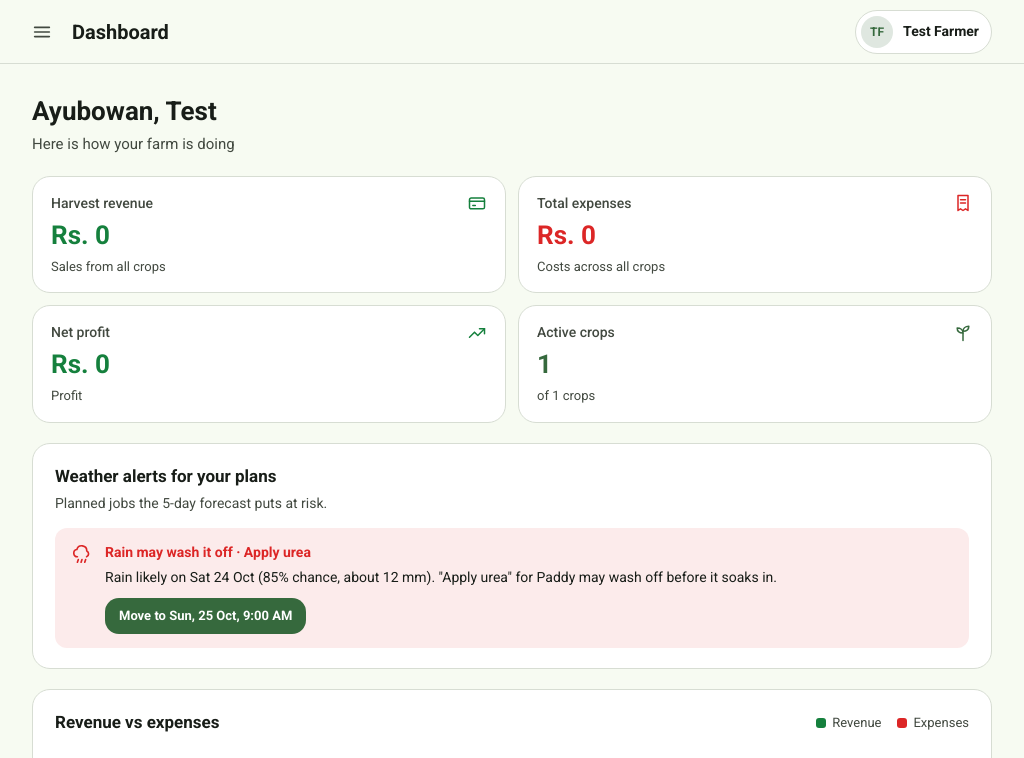
Test: weather alerts on the dashboard › moving the task reschedules the reminder and clears the alert
The width and height of the screenshot is (1024, 758).
Click the button "Move to Sun, 25 Oct, 9:00 AM".
click(206, 616)  # box [105, 598, 306, 634]
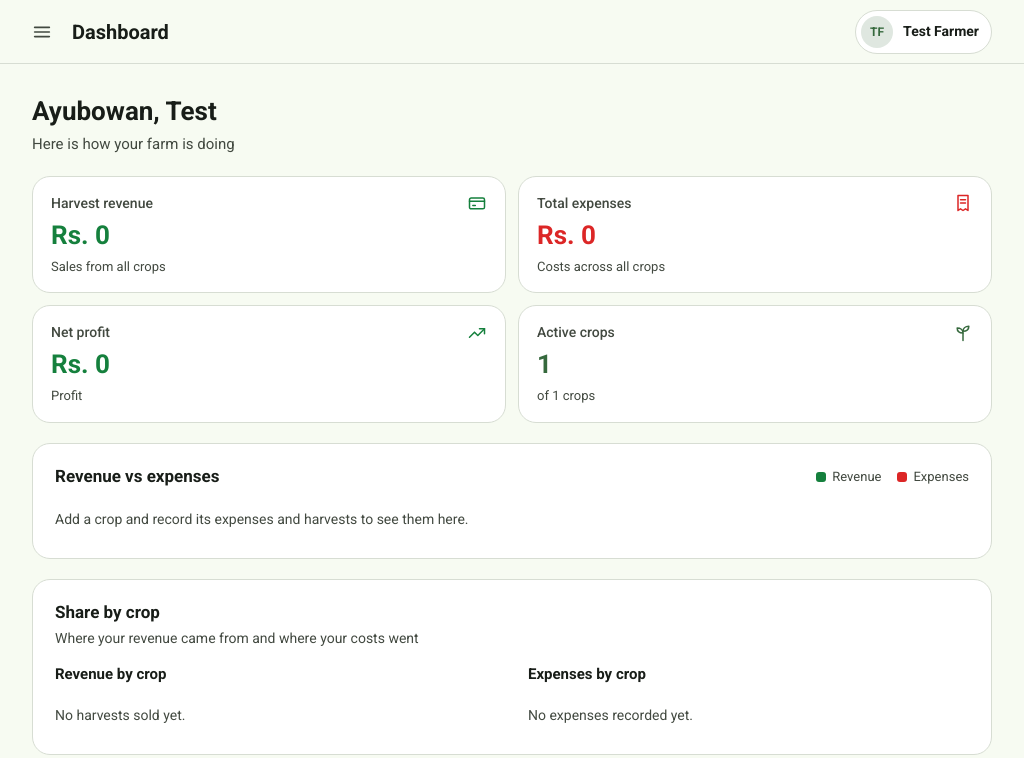
Result: the text "Weather alerts" is gone
